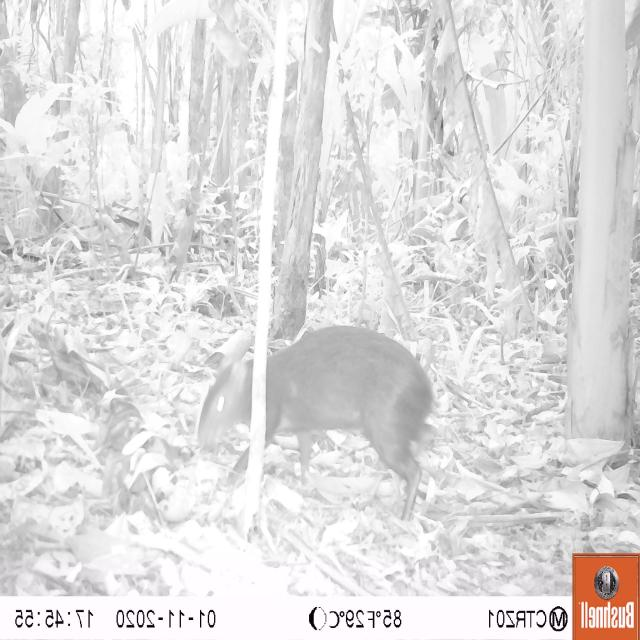Collared Peccary: (203, 315, 443, 533)
